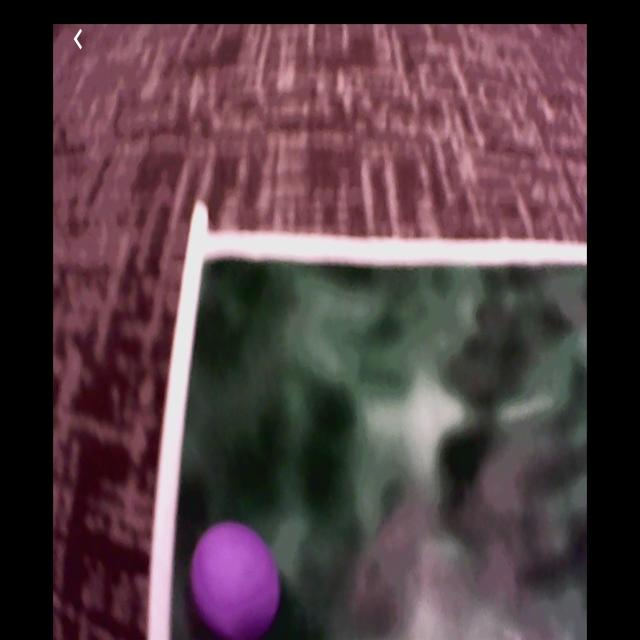ball: (190, 518, 284, 636)
